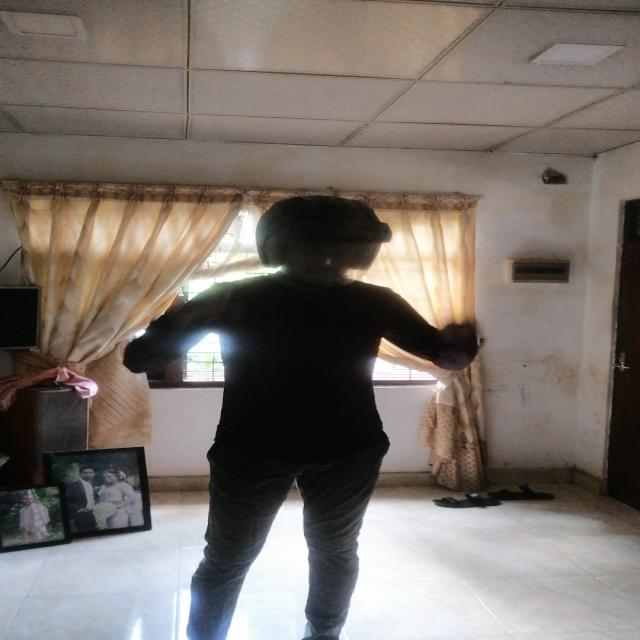Helmet_Wearer: (230, 187, 384, 294)
Person: (178, 190, 493, 640)
